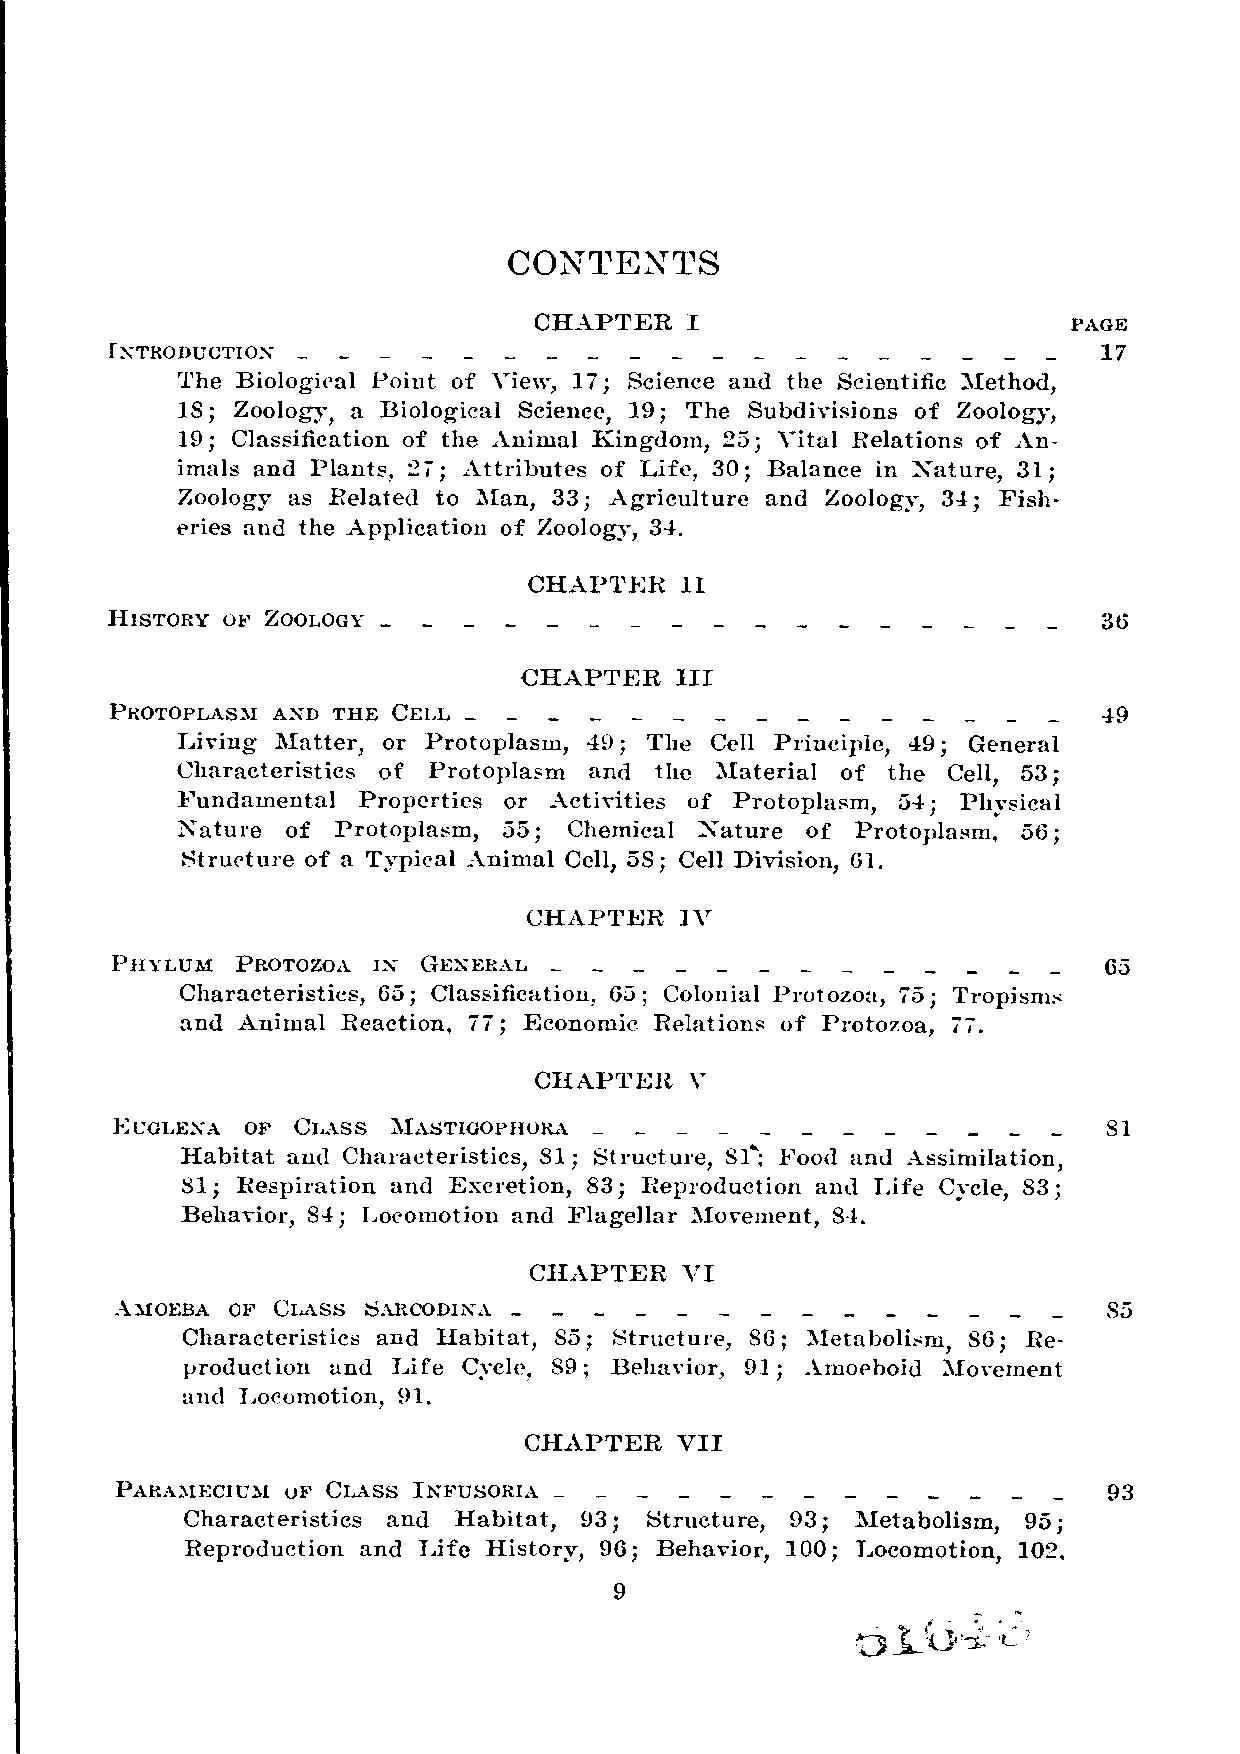TOC_chapter: (174, 758, 998, 785), (174, 788, 876, 815), (174, 514, 639, 544), (562, 817, 998, 845), (623, 366, 1056, 395), (361, 1205, 820, 1231), (228, 396, 612, 425), (183, 1534, 582, 1562), (176, 848, 615, 874), (521, 1011, 934, 1037), (227, 429, 705, 452), (173, 729, 568, 756), (174, 368, 561, 395), (103, 951, 526, 976), (178, 1504, 558, 1531), (111, 1117, 570, 1138), (111, 1295, 495, 1321), (113, 1478, 535, 1500), (639, 1176, 1008, 1201), (177, 1143, 527, 1170), (183, 1355, 531, 1382), (174, 484, 537, 510), (680, 401, 1060, 425), (183, 1326, 535, 1350), (107, 699, 451, 723), (174, 819, 480, 845), (236, 1176, 572, 1200), (103, 603, 364, 633), (605, 488, 925, 511), (778, 1147, 1062, 1172), (178, 1011, 454, 1035), (645, 731, 891, 758), (530, 1062, 718, 1096), (776, 429, 1063, 452), (804, 1355, 1062, 1380), (764, 458, 1004, 483), (658, 980, 886, 1007), (525, 1257, 719, 1287), (458, 458, 699, 480), (174, 455, 397, 479), (519, 1429, 722, 1453), (530, 307, 703, 336), (523, 570, 709, 596), (181, 1386, 385, 1409), (519, 666, 718, 688), (176, 981, 362, 1005), (107, 336, 275, 362), (675, 848, 841, 874), (523, 907, 711, 929), (429, 982, 597, 1005), (854, 1508, 1001, 1534), (854, 1538, 1001, 1563), (805, 1329, 951, 1354), (654, 1537, 770, 1563), (643, 1508, 768, 1533), (949, 982, 1067, 1008), (590, 1146, 713, 1170), (611, 1327, 731, 1351), (608, 1355, 725, 1380), (180, 1204, 295, 1228), (955, 790, 1062, 816), (965, 733, 1060, 757), (997, 488, 1060, 510), (1025, 1329, 1066, 1351)
TOC_pagenumber: (1096, 1108, 1137, 1142), (1015, 1537, 1057, 1561), (784, 1537, 827, 1558), (1099, 701, 1137, 723), (938, 484, 972, 510), (709, 451, 739, 478), (1016, 458, 1048, 483), (1099, 607, 1131, 632), (535, 1142, 568, 1168), (1103, 1296, 1137, 1321), (548, 484, 580, 509), (1104, 1479, 1137, 1503), (1021, 1174, 1052, 1198), (569, 368, 601, 391), (645, 517, 676, 539), (1023, 1510, 1053, 1533), (1099, 340, 1125, 366), (1103, 954, 1131, 978), (723, 1143, 752, 1168), (627, 397, 656, 420), (176, 427, 205, 450), (906, 731, 937, 753), (501, 819, 531, 840), (585, 731, 616, 753), (964, 1329, 994, 1350), (585, 1176, 615, 1197), (829, 1204, 859, 1225), (403, 458, 433, 478), (623, 848, 654, 868), (607, 982, 637, 1002), (1019, 764, 1047, 785), (464, 1012, 493, 1033), (305, 1204, 333, 1225), (747, 1326, 776, 1347), (395, 1385, 423, 1406), (722, 429, 752, 450), (174, 399, 204, 419), (553, 1326, 582, 1346), (376, 982, 407, 1001), (599, 1537, 625, 1558), (895, 790, 923, 811), (896, 984, 925, 1004), (947, 1015, 976, 1035), (549, 1355, 577, 1376), (739, 1355, 768, 1376), (578, 1508, 607, 1529), (1020, 823, 1048, 841), (786, 1510, 816, 1527), (848, 849, 874, 870), (178, 1176, 205, 1194)
chapter: (505, 247, 722, 279)
